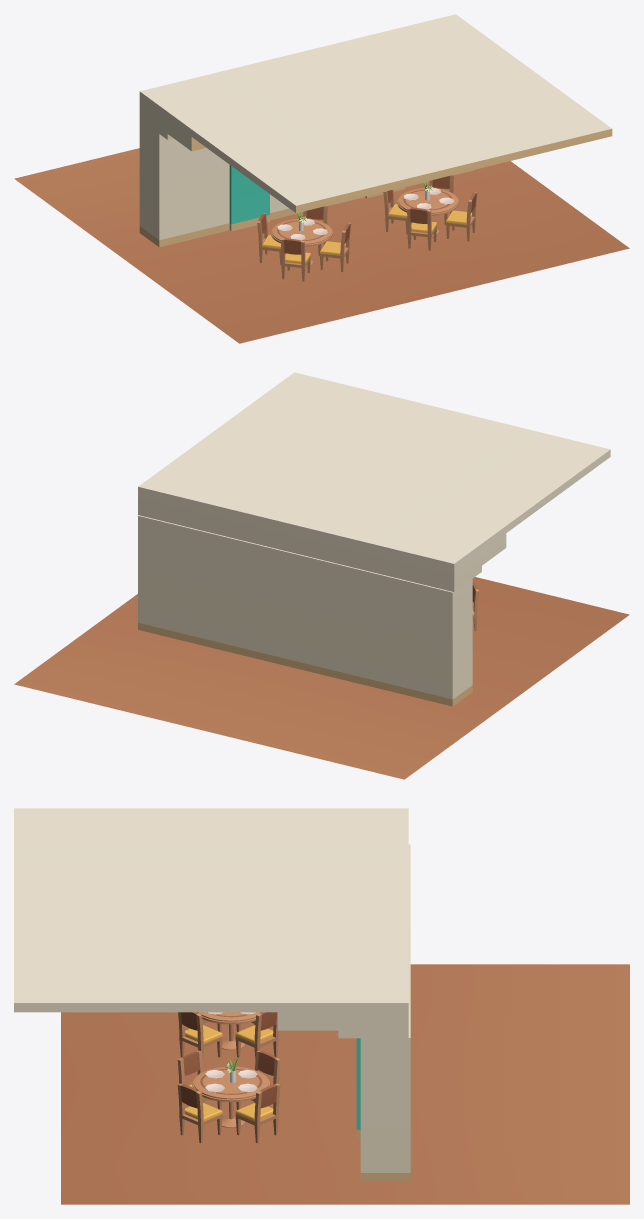
The model's file is RESTAURANT copy.fbx.
The picture shows the model from 3 angles, top to bottom: view 1: azimuth 30°, elevation 25°; view 2: azimuth 150°, elevation 25°; view 3: azimuth 270°, elevation 25°; orthographic projection. The views are drawn at different scales.
Visible parts, largest first — view 1: Cube.002, Plane, Cylinder.001, Cylinder.002; view 2: Cube.002, Plane; view 3: Plane, Cube.002, Cylinder.002, Cylinder.001.
Part boxes in pixels (x1,y1,x2,y2): Cube.002: (139,14,612,247); Plane: (14,148,629,343); Cylinder.001: (257,205,351,281); Cylinder.002: (383,175,477,250); Cube.002: (138,372,610,706); Plane: (14,577,629,779); Plane: (61,964,629,1204); Cube.002: (14,808,410,1181); Cylinder.002: (177,1050,280,1143); Cylinder.001: (178,1012,278,1060).
Bounding box in the file's own units: 33788 × 11887 × 36586.
